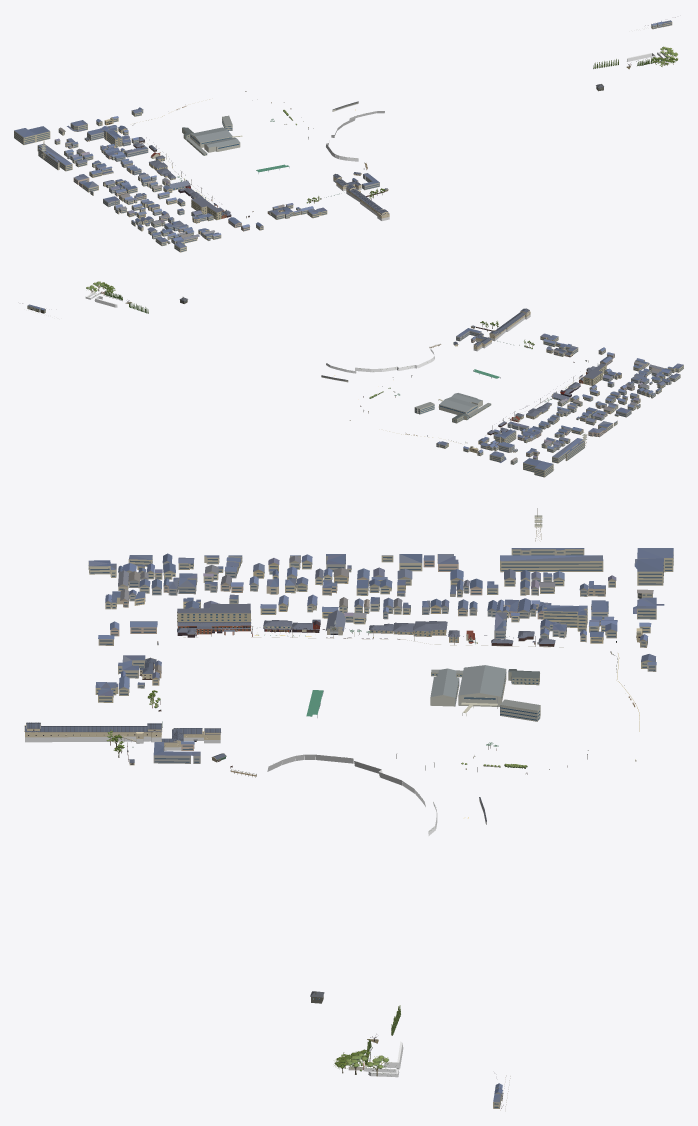
Rendered from ART_EastHikoneBuildings.glb.
The picture shows the model from 3 angles, top to bottom: view 1: azimuth 30°, elevation 25°; view 2: azimuth 150°, elevation 25°; view 3: azimuth 270°, elevation 25°; orthographic projection. The views are drawn at different scales.
Visible parts, largest first — view 1: ART_EastHikoneBuildings; view 2: ART_EastHikoneBuildings; view 3: ART_EastHikoneBuildings.
Part boxes in pixels (<box>): ART_EastHikoneBuildings: <box>14,17,677,252</box>; ART_EastHikoneBuildings: <box>22,281,683,477</box>; ART_EastHikoneBuildings: <box>24,508,673,1111</box>.
Bounding box in the file's own units: 1128 × 47.05 × 545.
